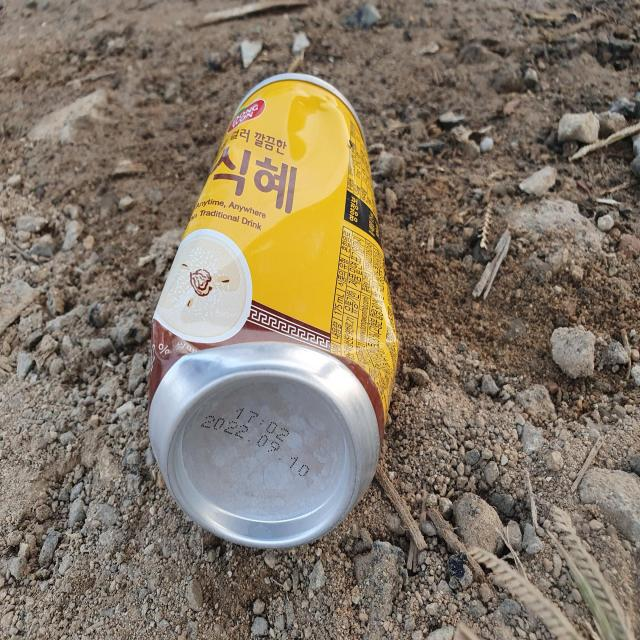can: (148, 73, 398, 548)
